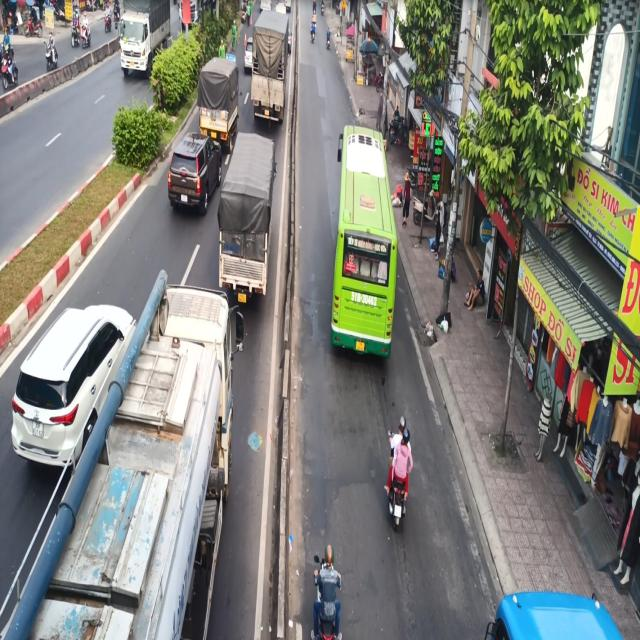bus: (329, 117, 397, 374)
car: (164, 126, 218, 216)
motor: (383, 411, 417, 536), (312, 538, 351, 640)
truck: (221, 132, 274, 303), (252, 6, 287, 122)
